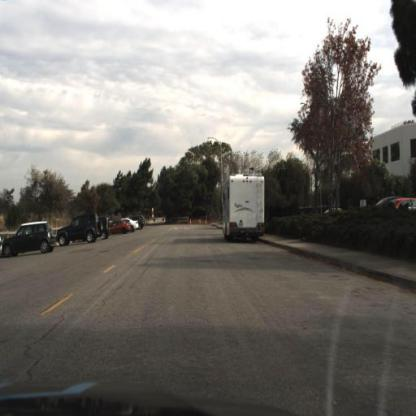car: (1, 219, 57, 263), (55, 211, 105, 248), (100, 215, 112, 243)
truck: (220, 165, 270, 246)
